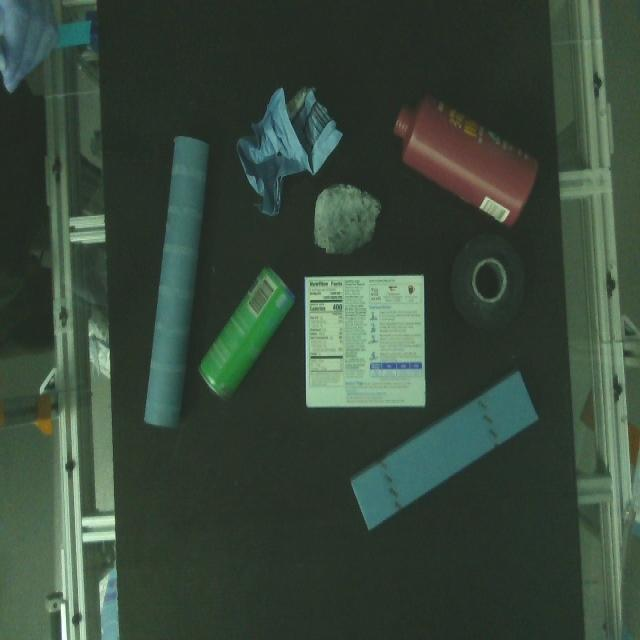non-paper: (388, 89, 548, 233), (197, 264, 295, 404), (449, 227, 529, 337), (312, 178, 384, 260)
paper: (349, 368, 543, 538), (130, 134, 216, 432), (301, 272, 430, 410), (232, 82, 345, 218)
